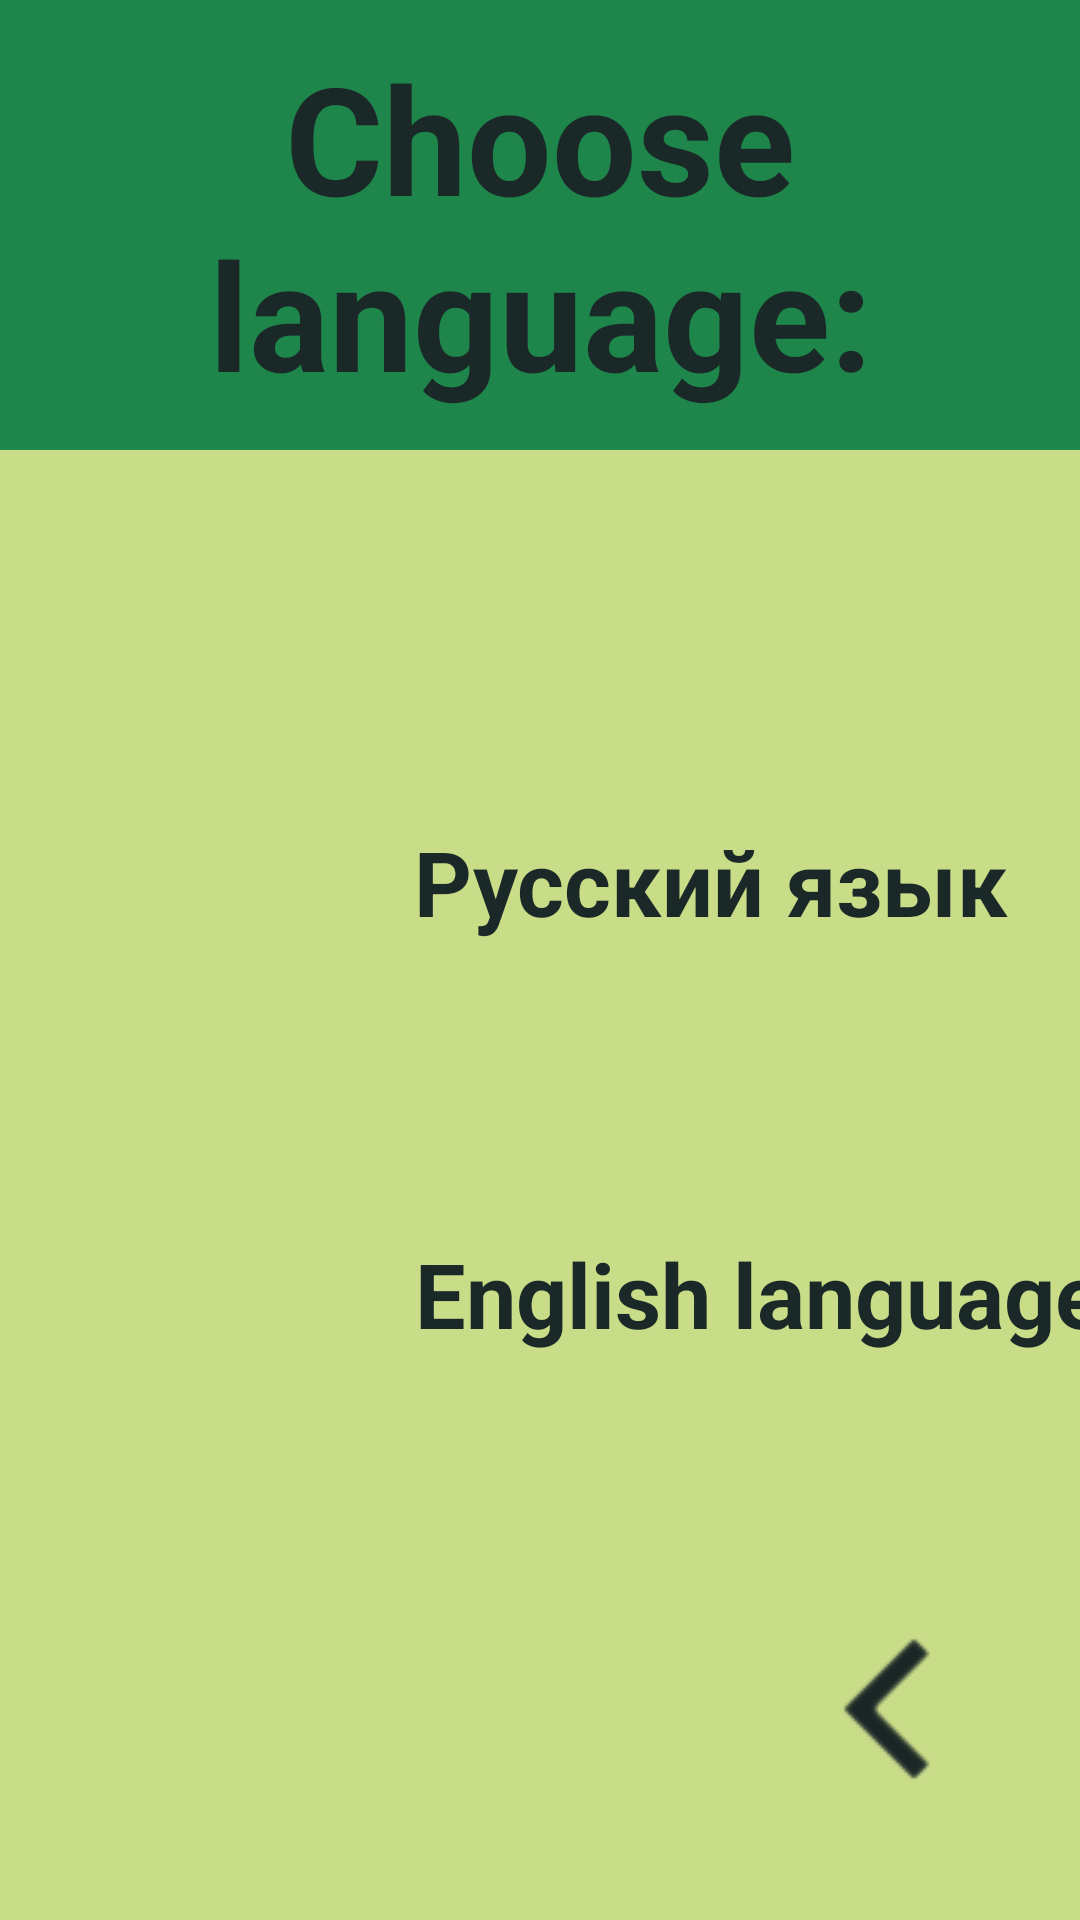

Icon bounding boxes for this 1080*1920 phone screenshot, format (x1, y1, x2, y2):
navigate before: (844, 1639, 930, 1779)
